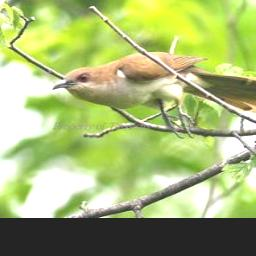Cuckoo: (50, 51, 256, 138)
